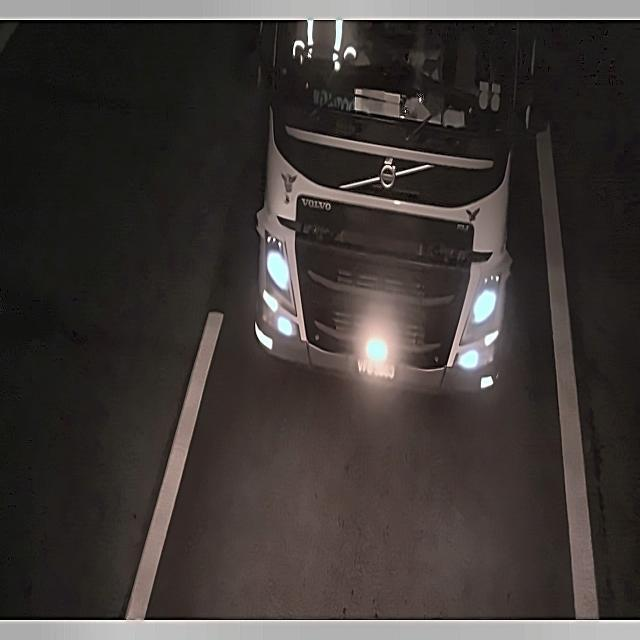car: (351, 352, 402, 382)
